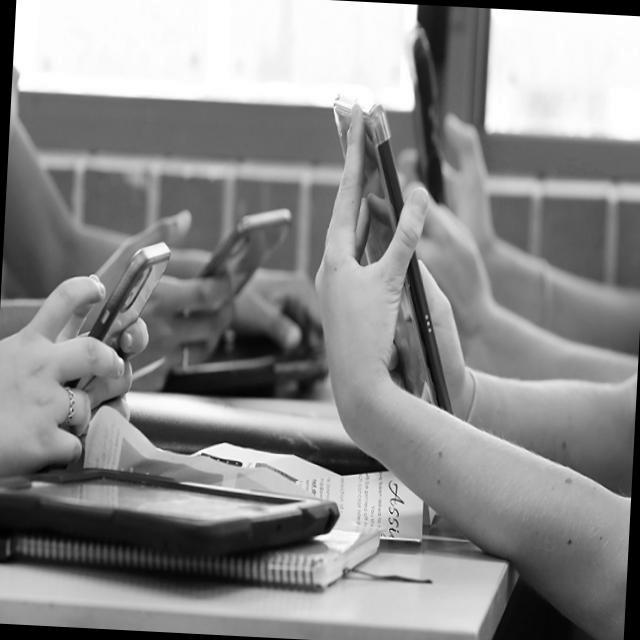phone: (317, 93, 470, 416), (0, 460, 340, 565), (74, 235, 171, 394), (182, 200, 292, 322), (402, 26, 458, 208)
